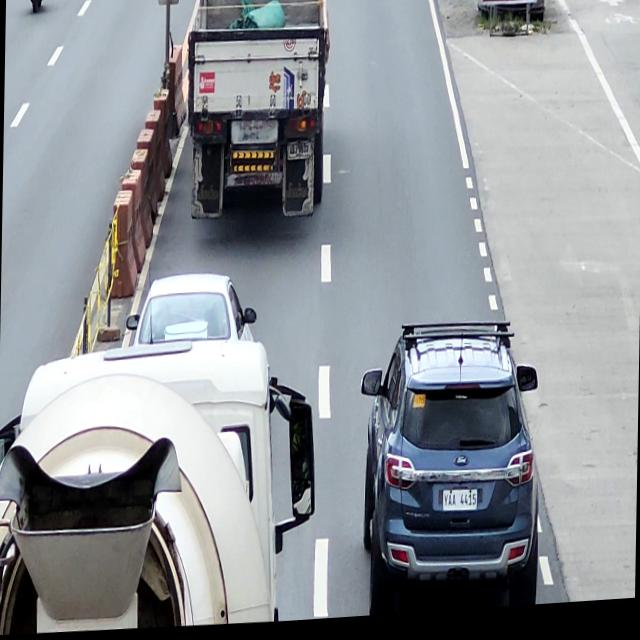Car: (355, 320, 543, 621), (125, 272, 257, 353)
License-Plate: (442, 496, 478, 519), (287, 145, 310, 163)
Truck: (0, 330, 319, 639), (184, 0, 333, 228)
